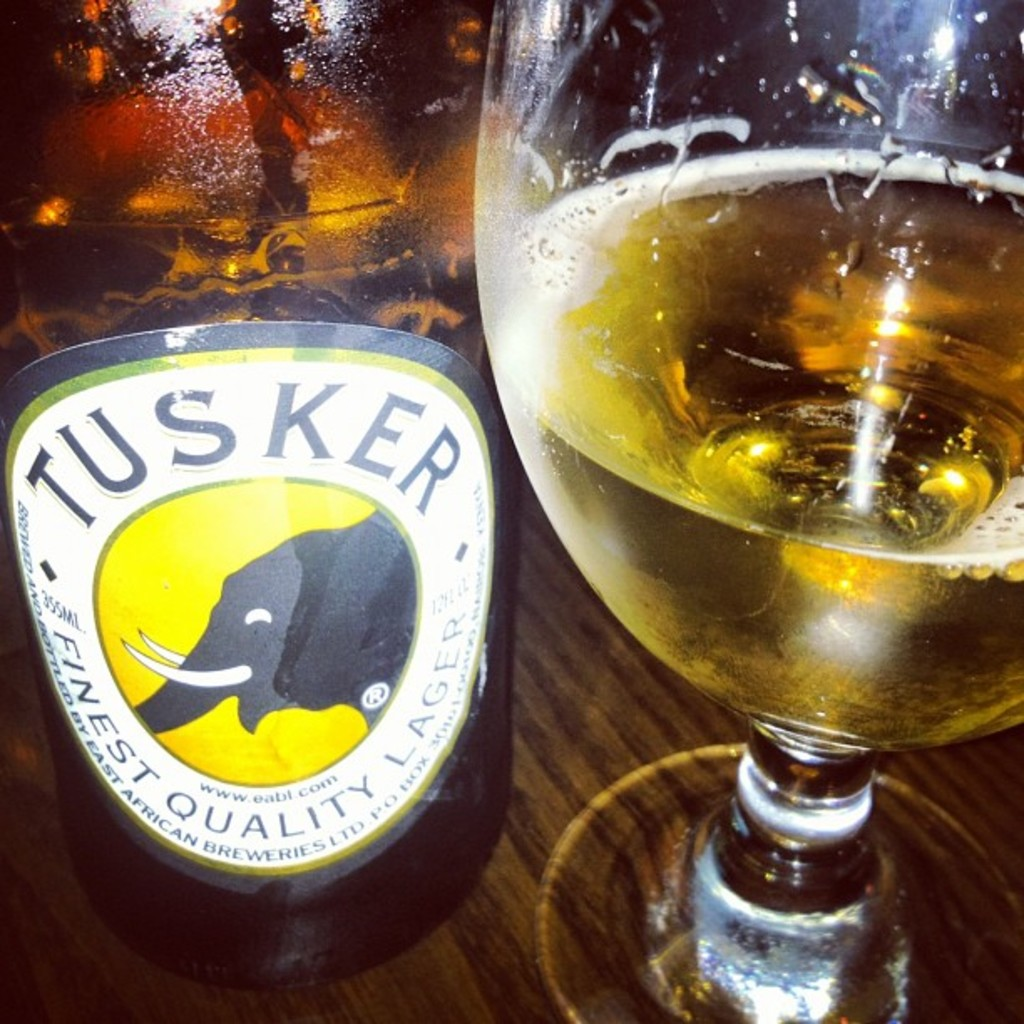Beer: (0, 0, 518, 993), (473, 133, 1022, 756)
